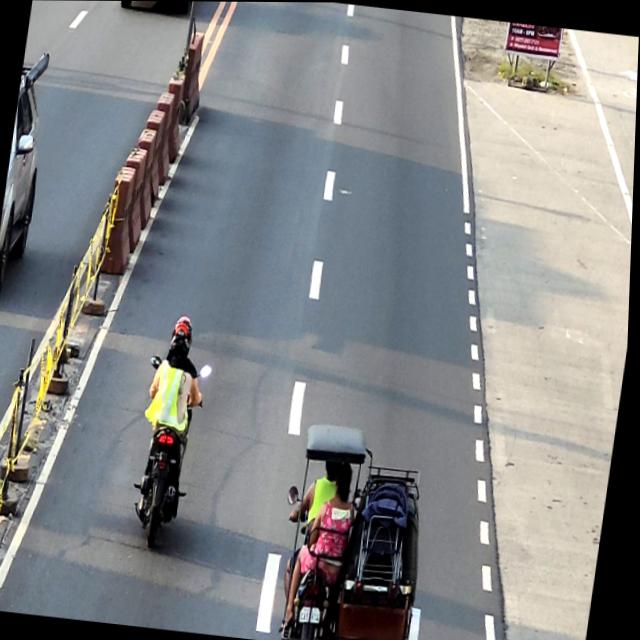Car: (0, 65, 53, 297)
License-Plate: (303, 605, 325, 625)
Motorcycle: (129, 352, 216, 550)
Tricycle: (270, 420, 450, 640)
